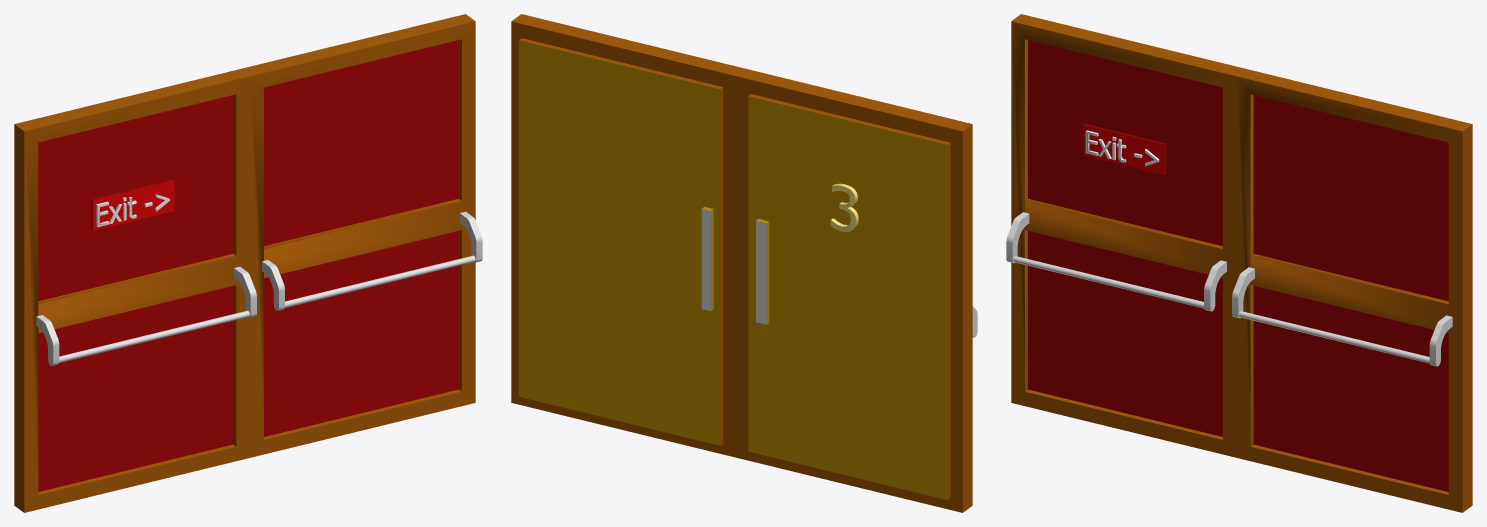
File: Porta.fbx
3 renders of one model, left to right at view 1: azimuth 30°, elevation 25°; view 2: azimuth 150°, elevation 25°; view 3: azimuth 330°, elevation 25°, orthographic.
Visible parts, largest first — view 1: portacinema; view 2: portacinema; view 3: portacinema.
Part boxes in pixels (x1=…): portacinema: x1=14, y1=14, x2=482, y2=512; portacinema: x1=511, y1=14, x2=977, y2=512; portacinema: x1=1006, y1=14, x2=1472, y2=512.
Bounding box in the file's own units: 2.6 × 2.1 × 0.3234.
